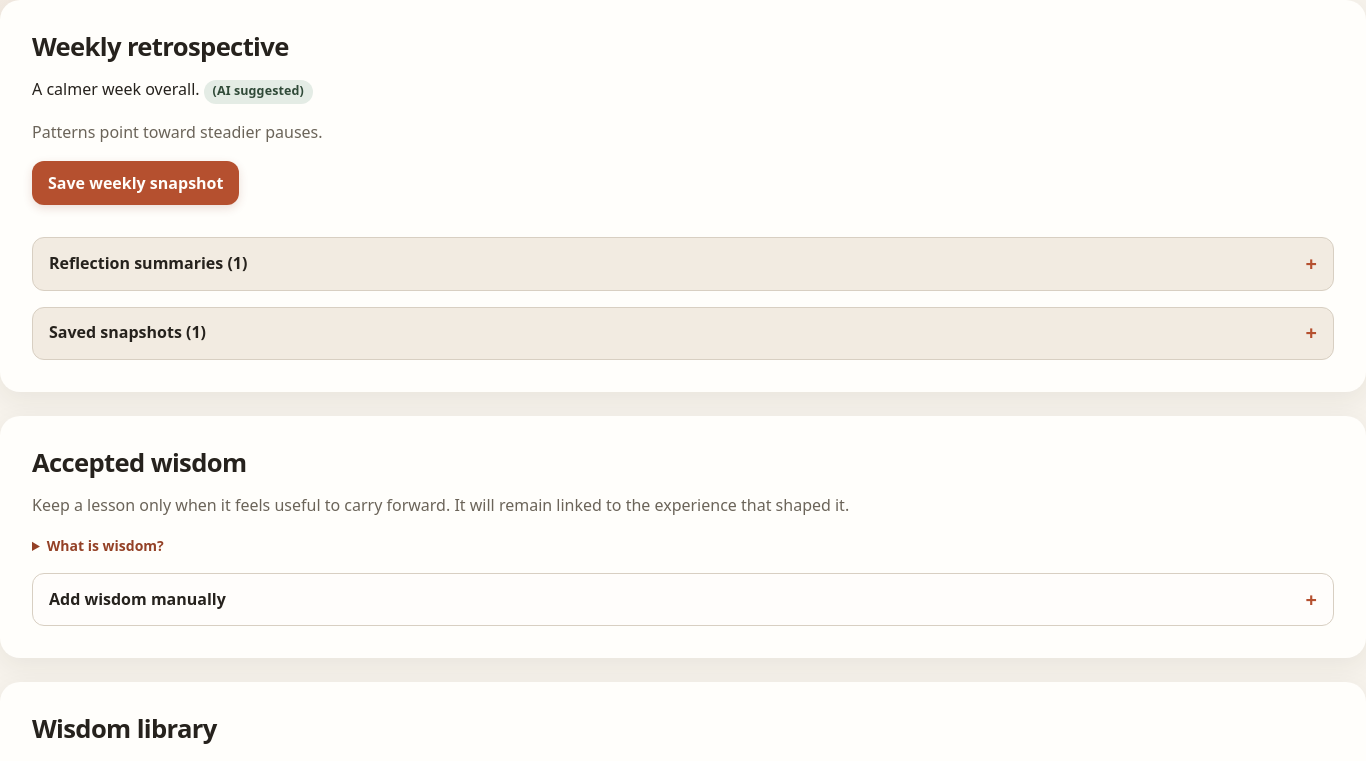
Test case: WisdomPage › confirms a saved weekly snapshot and shows it in snapshot history
The image size is (1366, 761).
expect the text "A calmer week overall. (AI suggested)" is shown: met, box [32,78,313,104]
Click the heading "Saved snapshots (1)". click: (128, 332)
box: [49,321,206,343]
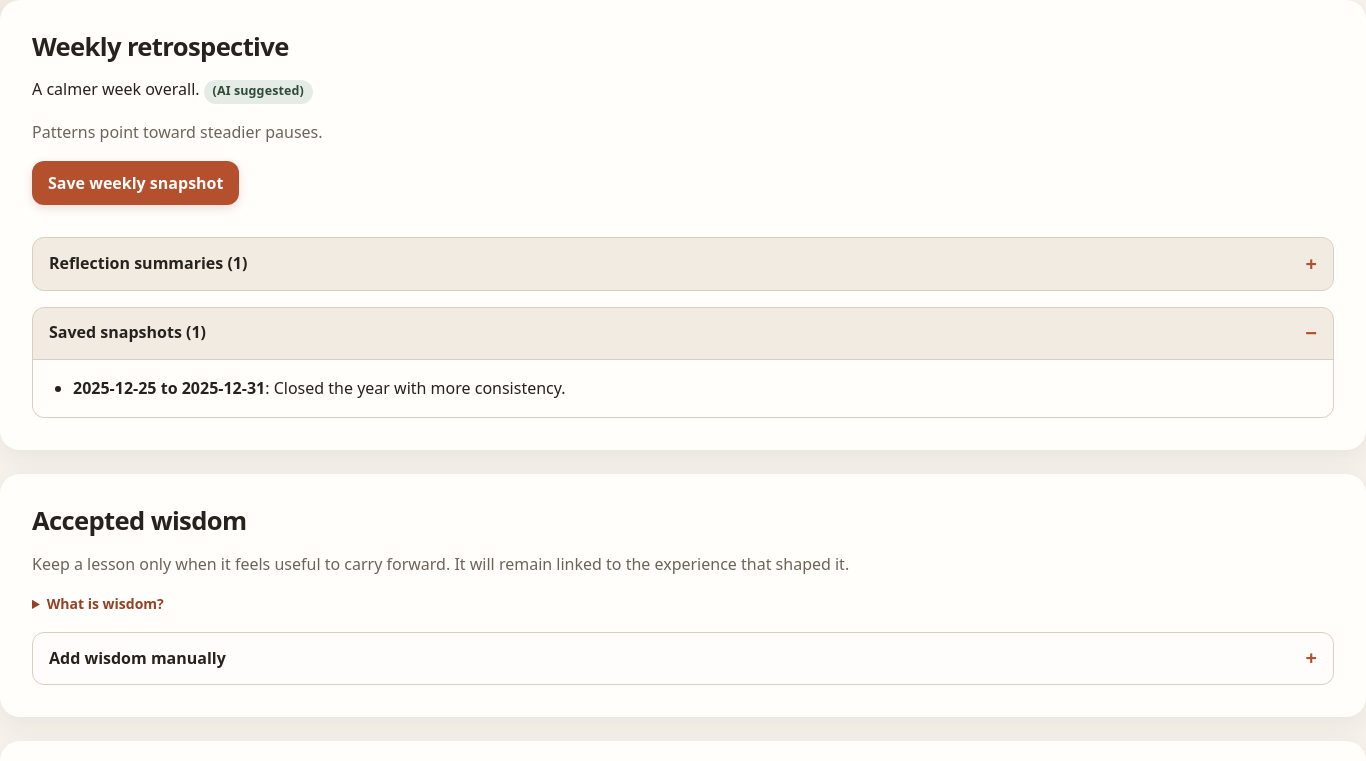
expect the text "2025-12-25 to 2025-12-31" is shown: met, box [73,377,265,399]
Click the button "Save weekly snapshot". click: (136, 183)
box: [32,161,240,205]
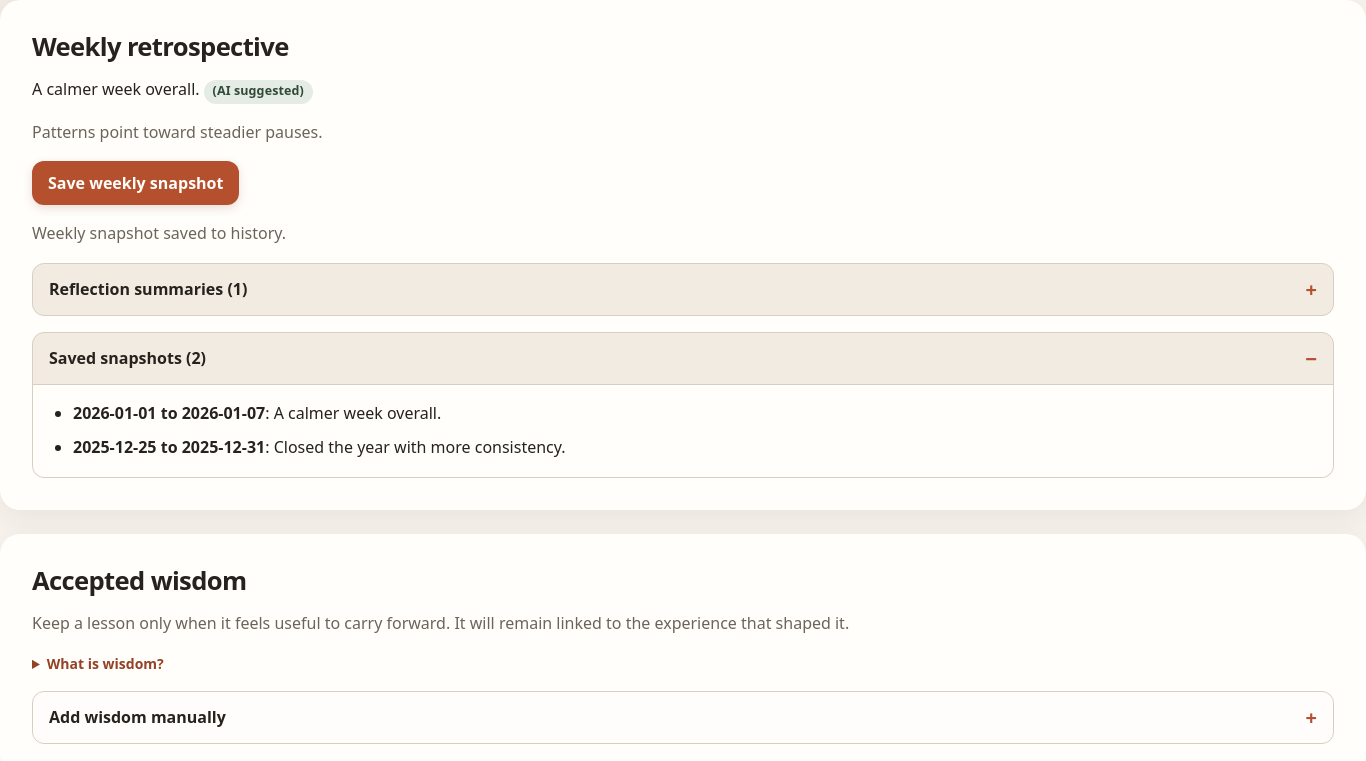
expect the text "Weekly snapshot saved to history." is shown: met, box [32,222,286,244]
expect the text "2026-01-01 to 2026-01-07" is shown: met, box [73,402,265,424]
